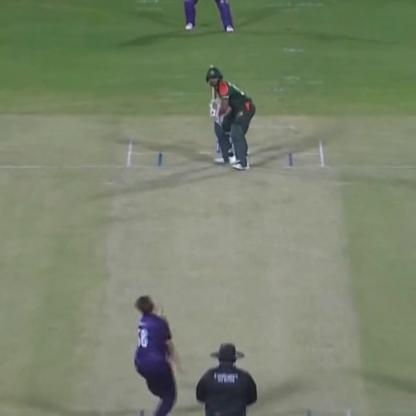bat: (204, 61, 221, 117)
pitch: (105, 138, 356, 416)
